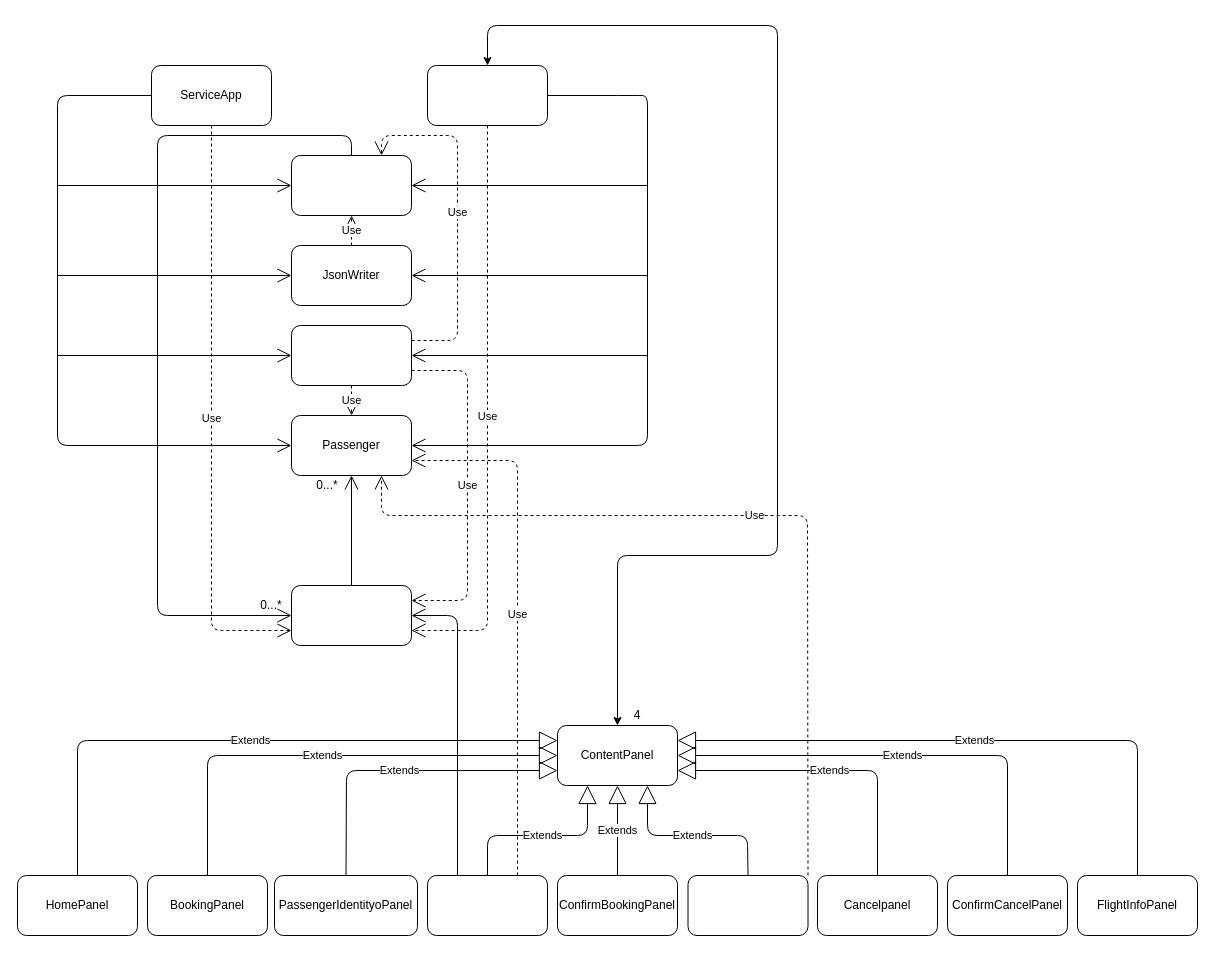
The diagram is 1215 pixels wide and 953 high, and some of its shapes have lost their labels. Here are the shapes that lost their labels. From the top down, the box of each, then its label:
(426, 64, 548, 126): ServiceAppGUI
(290, 154, 412, 216): Airlines
(290, 324, 412, 386): JsonReader
(290, 584, 412, 646): Flight
(426, 874, 548, 936): SeatPanel
(687, 874, 808, 936): SearchPanel
